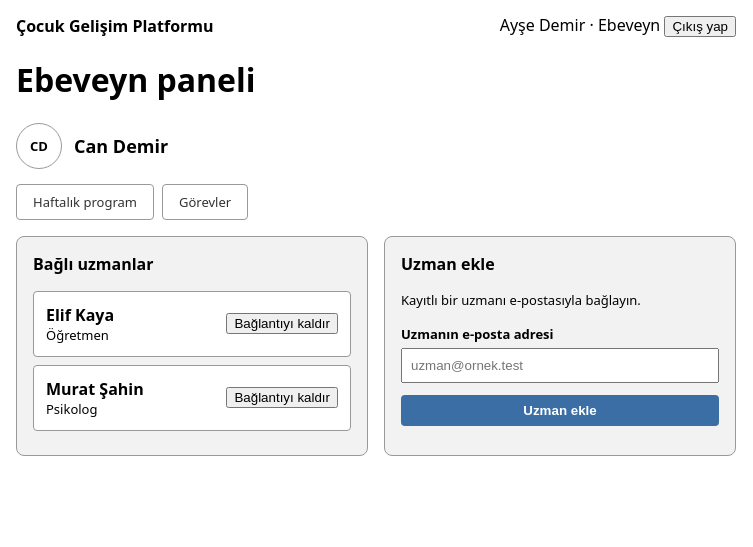
Scenario: ParentDashboard › link form › sends the email and adds the specialist to the list (FR-M2-01)
Step 1. Type "coach@demo.test" into the field labelled "Uzmanın e-posta adresi" → [560, 365], box 401,348 -> 719,383
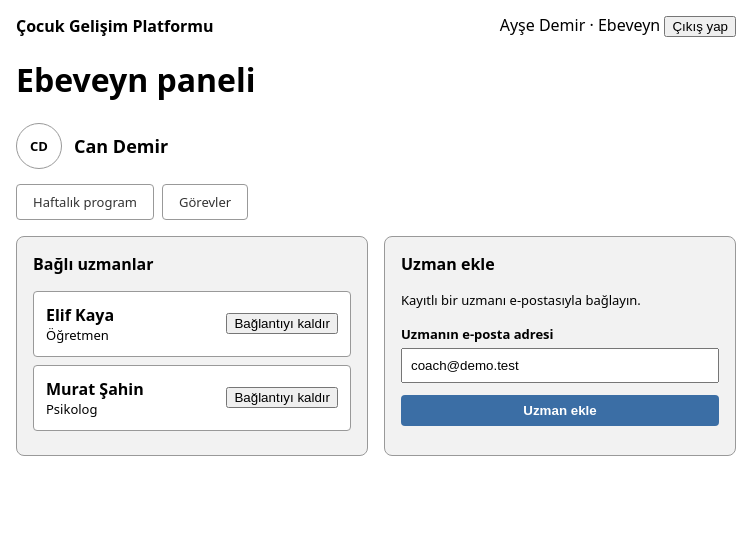
Step 2. Click the button "Uzman ekle" → [560, 410], box 401,395 -> 719,426
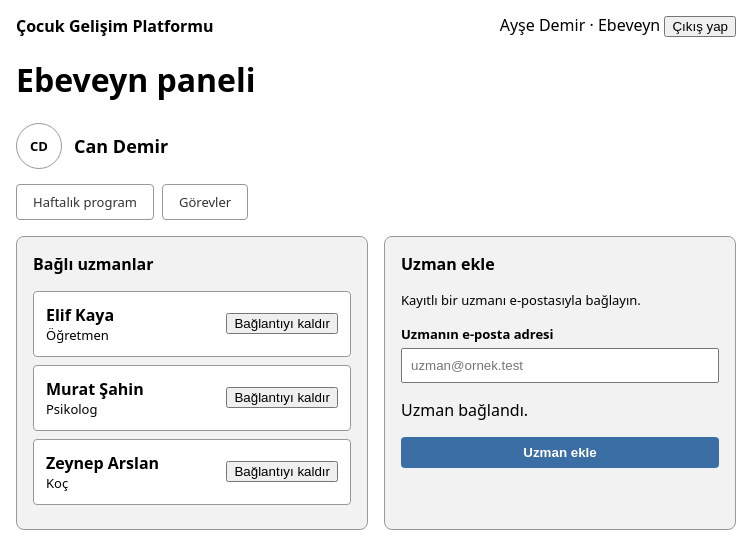
expect the text "Zeynep Arslan" is shown: met, box 46,452 -> 159,474
expect the message reads "Uzman bağlandı.": met, box 401,399 -> 528,421
expect the element with test id "specialist" shows "Koç": met, box 46,474 -> 68,492
